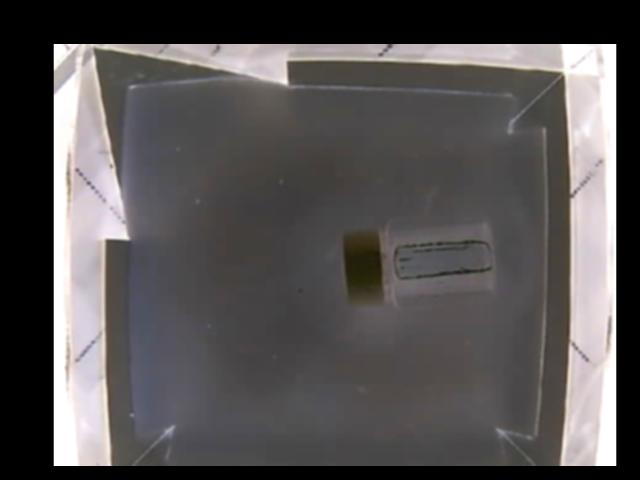Bottle: (341, 222, 497, 313)
